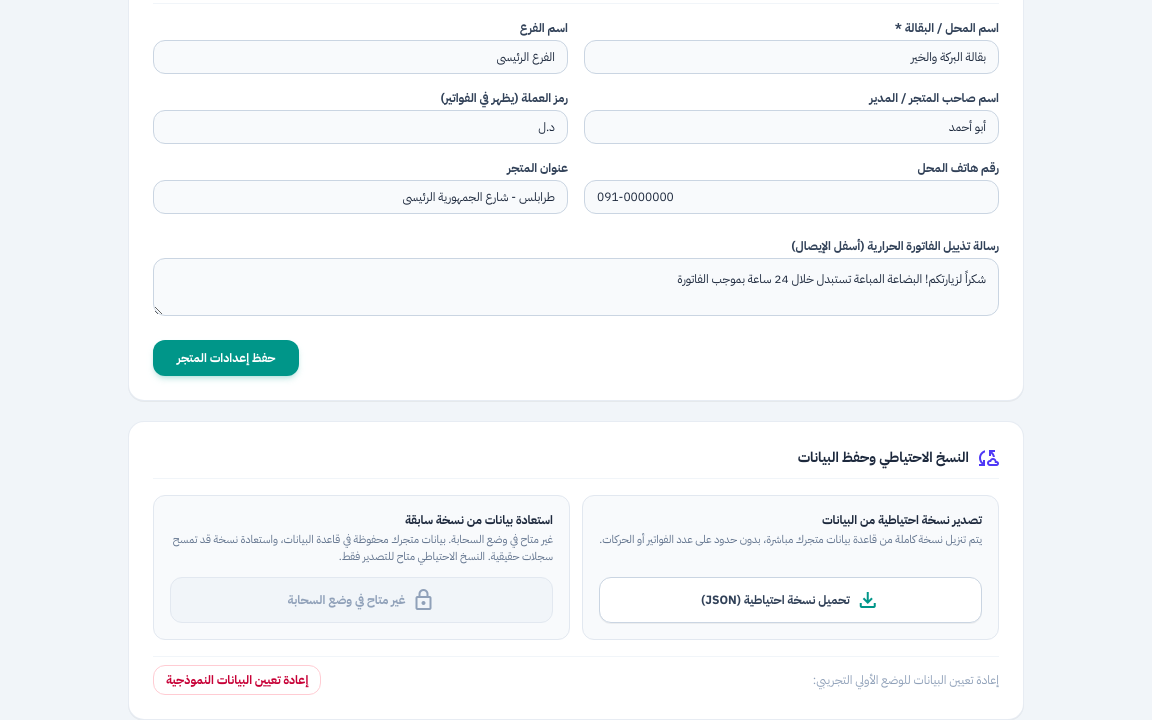
SettingsView - backup controls in cloud mode › refuses the demo reset instead of replacing real shop data
(page scrolled)
Click the button "إعادة تعيين البيانات النموذجية". click: click(237, 680)
box: [153,665,321,695]
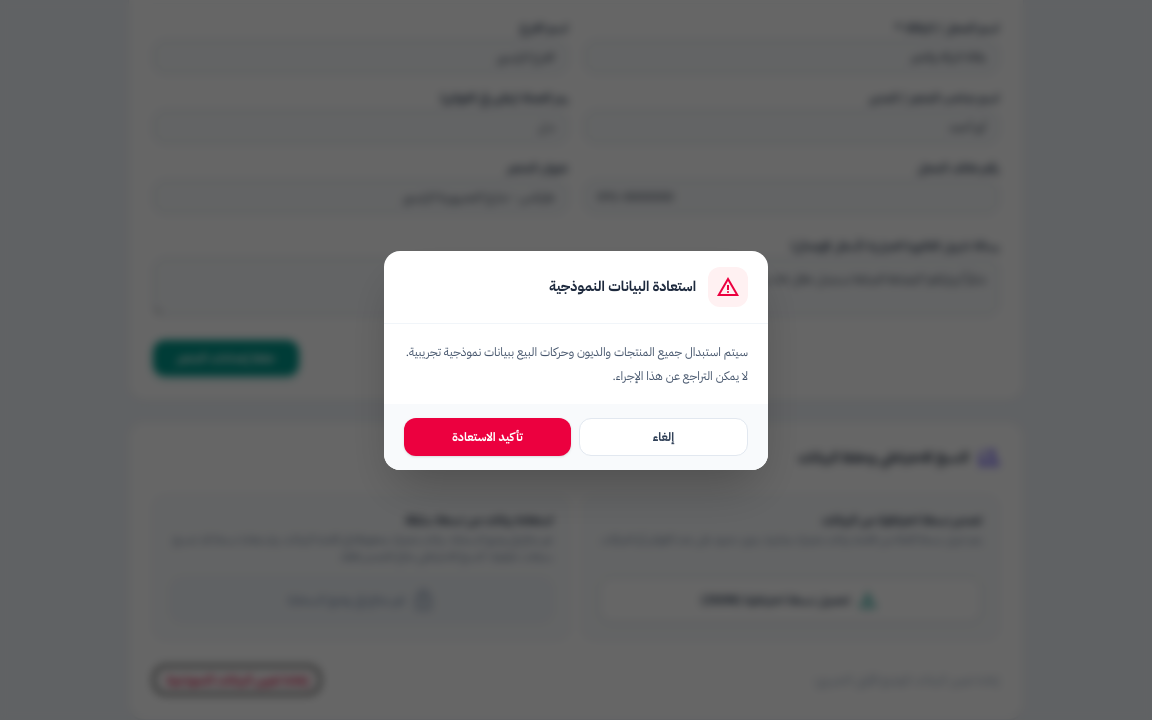
Click the button "تأكيد الاستعادة". click: click(488, 436)
box: [404,418,571,456]
(page scrolled)
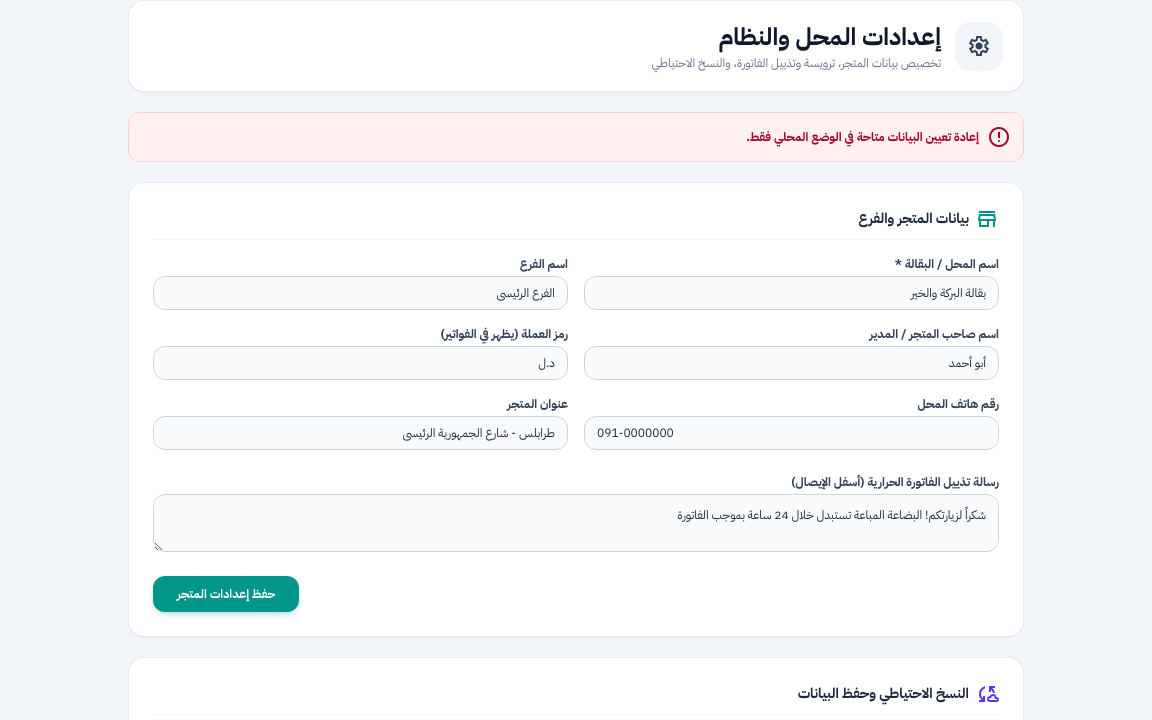
Expected: the message shows "متاحة في الوضع المحلي فقط", [746,128,979,146]
